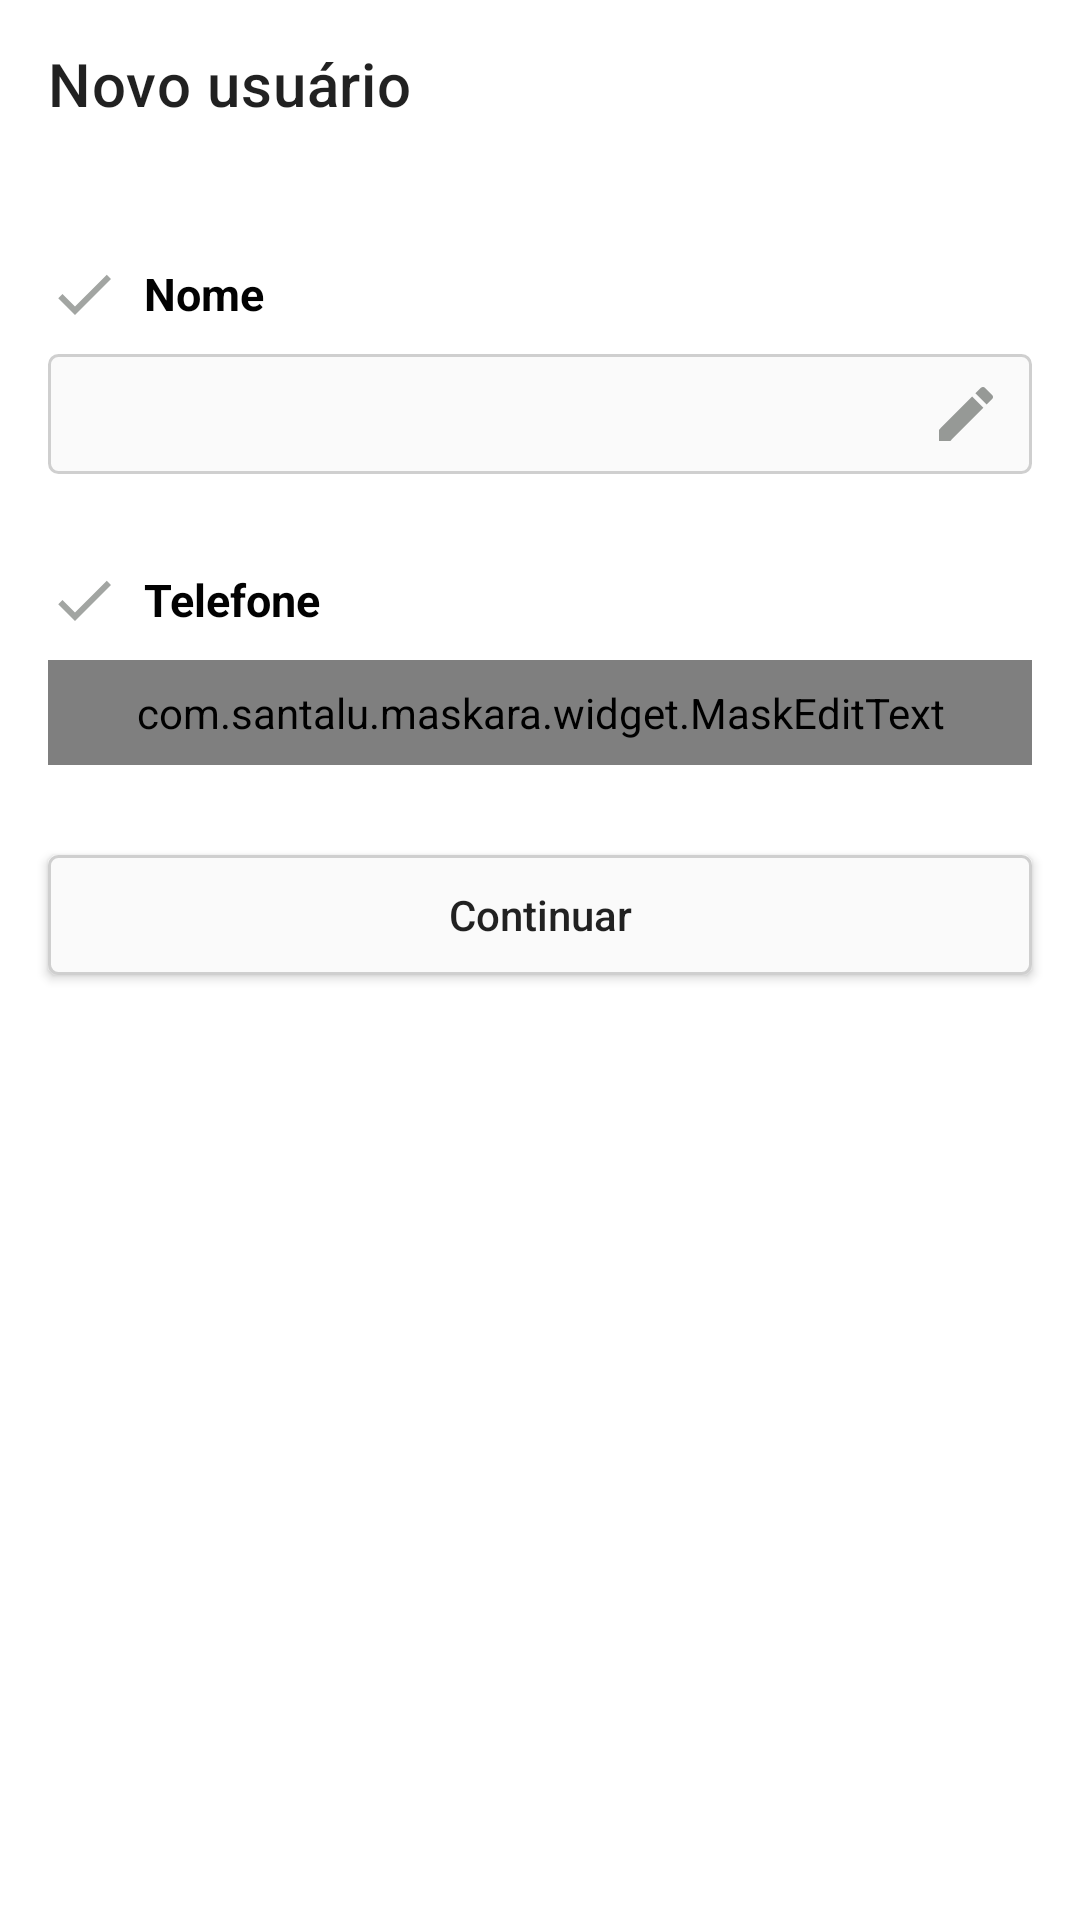

Screen size 1080 × 1920. Icon name, then its box in pixels as box(x1, y1, x2, y2):
check cinza: box(58, 275, 111, 315), box(58, 581, 111, 621)
